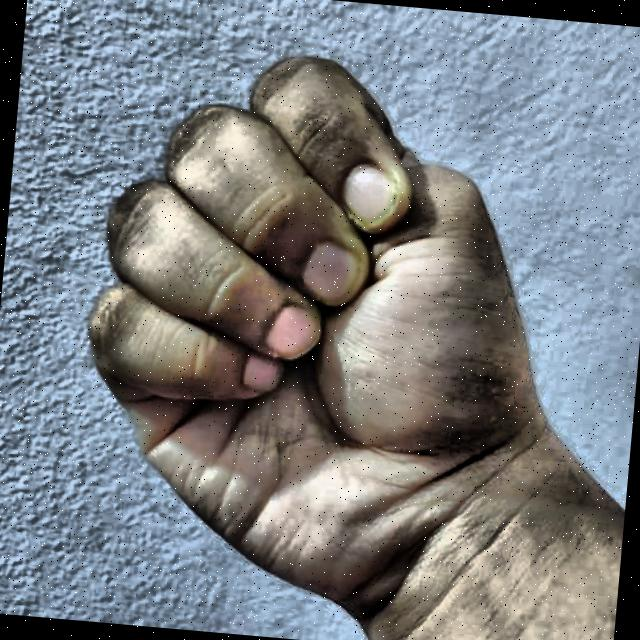To: (45, 14, 578, 640)
